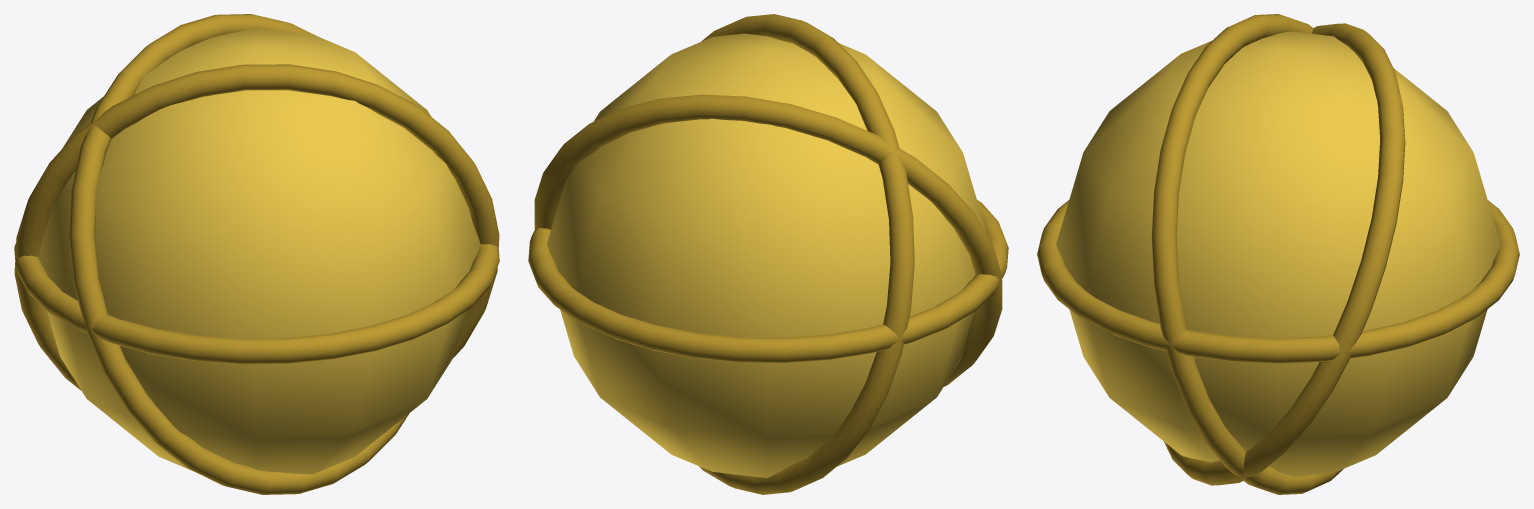
Rendered from takraw_ball.glb.
3 renders of one model, left to right at view 1: azimuth 30°, elevation 25°; view 2: azimuth 150°, elevation 25°; view 3: azimuth 270°, elevation 25°, orthographic.
Parts seen in each view (by area): view 1: takraw_ball; view 2: takraw_ball; view 3: takraw_ball.
Boxes of the visible parts, x1=… form: takraw_ball: x1=14, y1=14, x2=499, y2=494; takraw_ball: x1=528, y1=14, x2=1008, y2=494; takraw_ball: x1=1037, y1=14, x2=1519, y2=494.
Bounding box in the file's own units: 0.15 × 0.1449 × 0.15.
